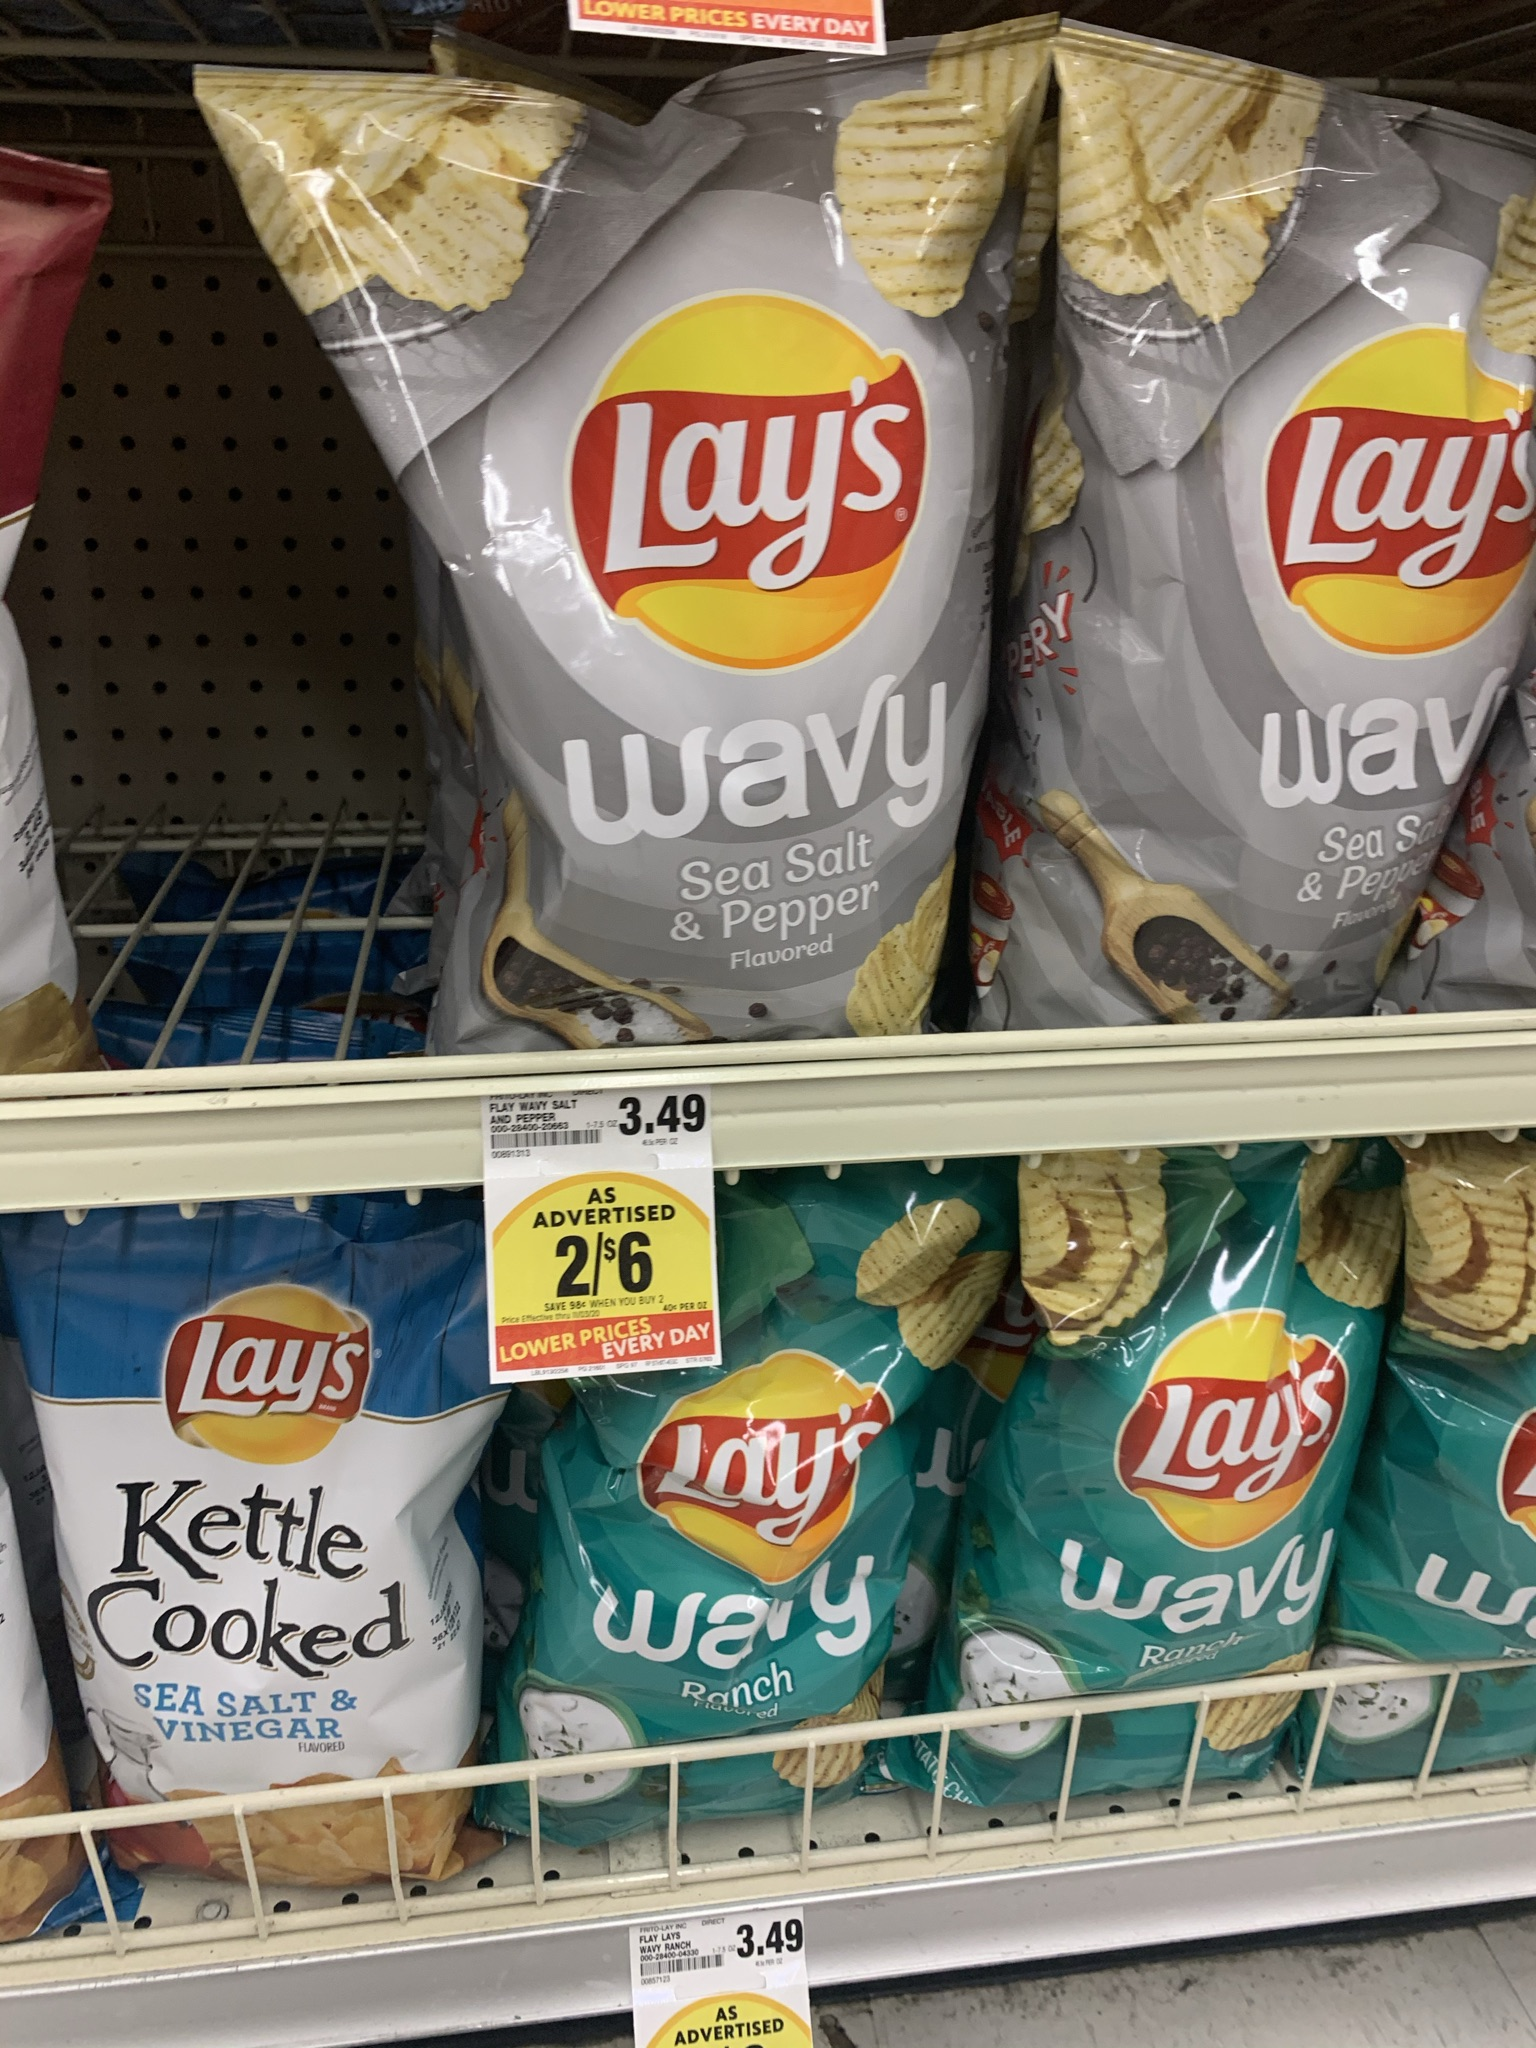lays: (224, 106, 979, 1051), (1042, 48, 1438, 1034), (44, 1230, 492, 1825), (1049, 1166, 1304, 1766), (608, 1224, 870, 1764), (1413, 1155, 1536, 1756)
